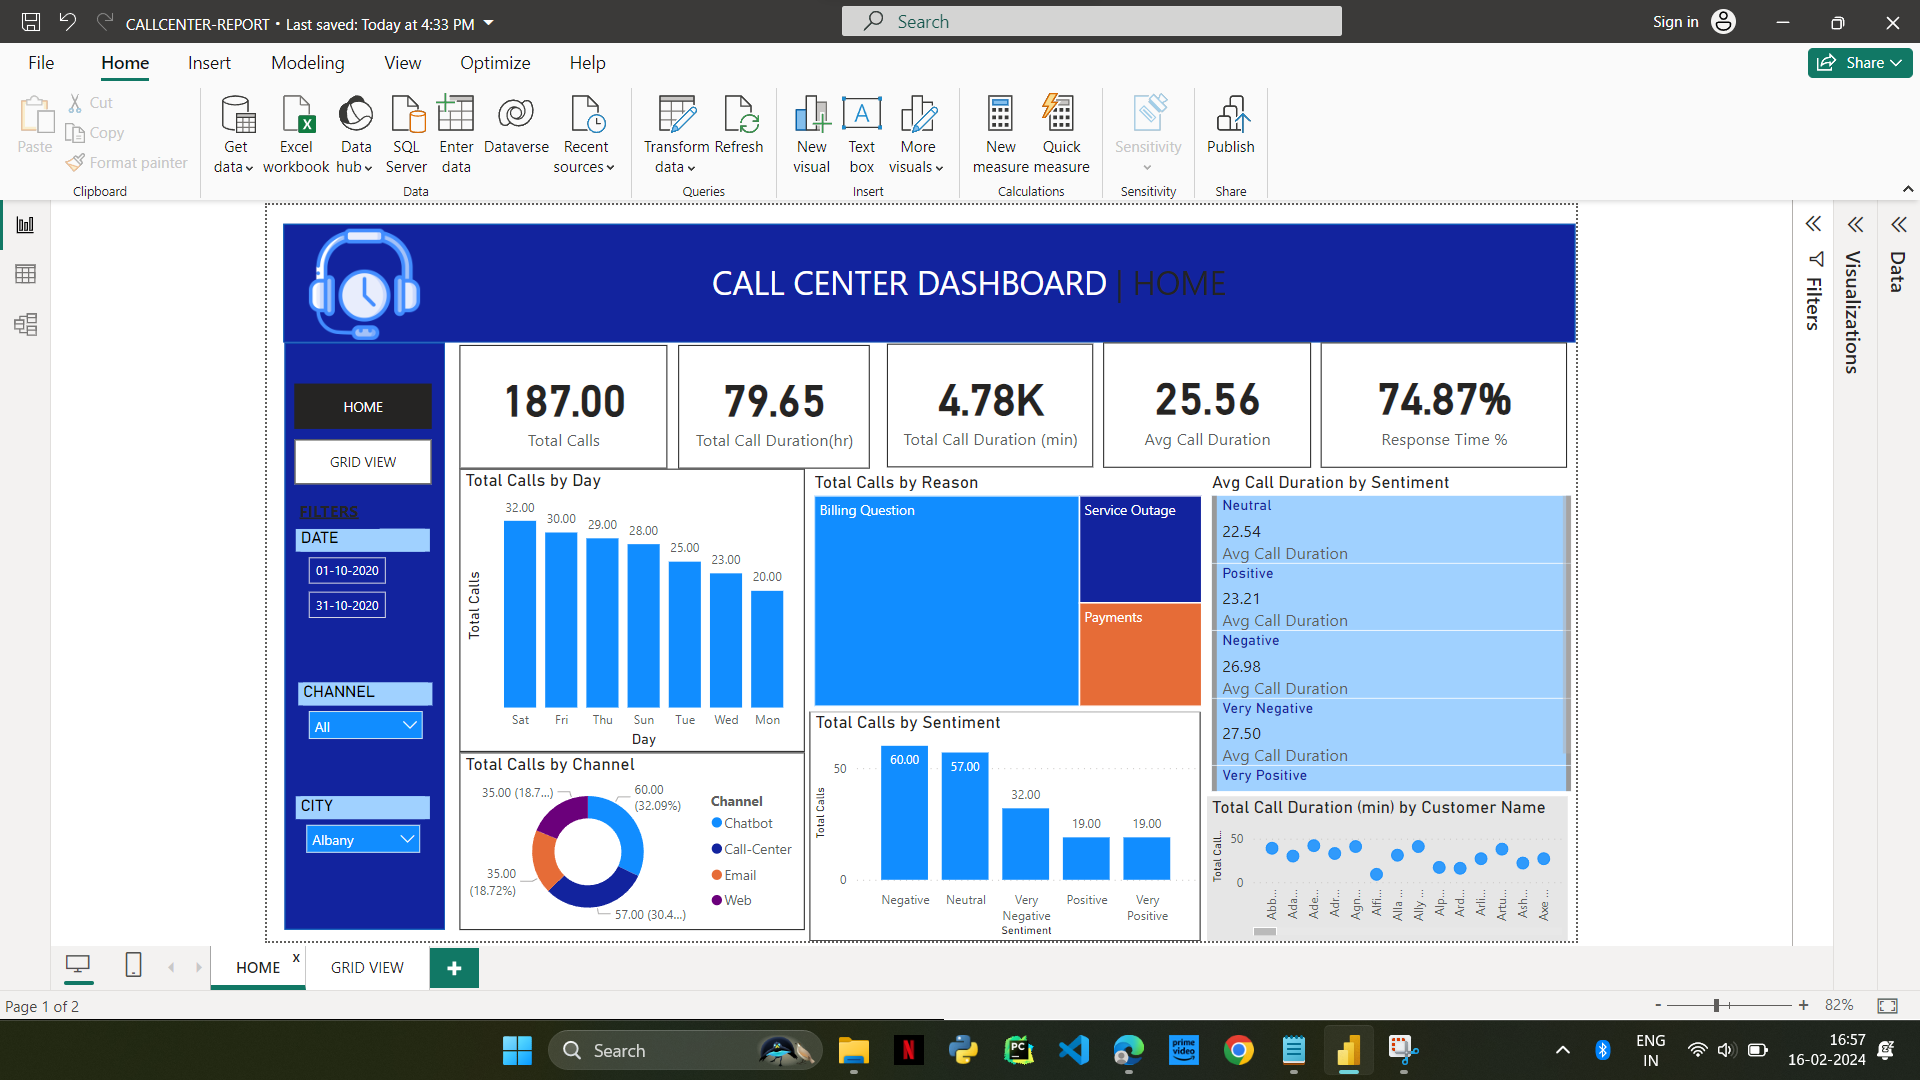

What the dashboard file says about the page in this screenshot:
{"tool":"powerbi","page":{"name":"HOME","canvas":[1280,720],"ordinal":0},"visuals":[{"type":"shape","box":[15.9,18.4,1263.7,116.3],"z":0},{"type":"shape","box":[17.1,134.3,157.1,574.3],"z":1000},{"type":"card","fields":{"Values":["Call Center_Call Center.Total Calls"]},"box":[188.3,136.9,202.9,121],"z":2000},{"type":"card","fields":{"Values":["Call Center_Call Center.Total Call Duration(hr)"]},"box":[402.2,136.9,187,121],"z":3000},{"type":"card","fields":{"Values":["Call Center_Call Center.Avg Call Duration"]},"box":[817.8,134.5,202.9,122.2],"z":4000},{"type":"card","fields":{"Values":["Call Center_Call Center.Response Time %"]},"box":[1030.5,134.5,240.8,122.2],"z":5000},{"type":"card","fields":{"Values":["Call Center_Call Center.Total Call Duration (min)"]},"box":[606.3,135.7,201.7,121],"z":6000},{"type":"textbox","box":[430.1,49.4,522.8,63],"z":7000},{"type":"columnChart","fields":{"Category":["Date Table.Day"],"Y":["Call Center_Call Center.Total Calls"]},"box":[188.6,258.4,338,276.7],"z":8000},{"type":"donutChart","fields":{"Category":["Call Center_Call Center.Channel"],"Y":["Call Center_Call Center.Total Calls"]},"box":[188.6,535.1,338,173.9],"z":9000},{"type":"columnChart","fields":{"Y":["Call Center_Call Center.Total Calls"],"Category":["Call Center_Call Center.Sentiment"]},"box":[919.5,258.3,333.7,276.8],"z":10000},{"type":"clusteredBarChart","fields":{"Category":["Call Center_Call Center.Call-Centres City"],"Y":["Call Center_Call Center.Total Calls"]},"box":[919.5,543.8,333.7,165.6],"z":11000},{"type":"filledMap","fields":{"Category":["Call Center_Call Center.State"]},"box":[526.5,495.6,378.2,224.9],"z":12000},{"type":"treemap","fields":{"Group":["Call Center_Call Center.Reason"],"Values":["Call Center_Call Center.Total Calls"]},"box":[526.5,258.3,378.2,237.3],"z":13000},{"type":"slicer","title":"DATE","fields":{"Values":["Date Table.Date"]},"box":[28.6,317.1,131.4,118.6],"z":14000},{"type":"slicer","title":"CHANNEL","fields":{"Values":["Call Center_Call Center.Channel"]},"box":[30,467.1,131.4,97.1],"z":15000},{"type":"slicer","title":"CITY","fields":{"Values":["Call Center_Call Center.City"]},"box":[28.6,578.6,131.4,97.1],"z":16000},{"type":"pageNavigator","box":[27.1,174.3,134.3,98.6],"z":17000},{"type":"textbox","box":[27.1,282.9,82.9,34.3],"z":18000},{"type":"image","box":[30,18.6,144.3,140],"z":19000}]}

Visuals, with their boxes on the page's 1280x720 design canvas (x1, y1, x2, y2). These are canvas units, not pixel positions in the 1920x1080 screenshot, which may show the page scaled, cropped or inside an application window:
shape: BBox(16, 18, 1280, 135)
shape: BBox(17, 134, 174, 709)
card - Call Center_Call Center.Total Calls: BBox(188, 137, 391, 258)
card - Call Center_Call Center.Total Call Duration(hr): BBox(402, 137, 589, 258)
card - Call Center_Call Center.Avg Call Duration: BBox(818, 134, 1021, 257)
card - Call Center_Call Center.Response Time %: BBox(1030, 134, 1271, 257)
card - Call Center_Call Center.Total Call Duration (min): BBox(606, 136, 808, 257)
textbox: BBox(430, 49, 953, 112)
columnChart - Date Table.Day x Call Center_Call Center.Total Calls: BBox(189, 258, 527, 535)
donutChart - Call Center_Call Center.Channel x Call Center_Call Center.Total Calls: BBox(189, 535, 527, 709)
columnChart - Call Center_Call Center.Total Calls x Call Center_Call Center.Sentiment: BBox(920, 258, 1253, 535)
clusteredBarChart - Call Center_Call Center.Call-Centres City x Call Center_Call Center.Total Calls: BBox(920, 544, 1253, 709)
filledMap - Call Center_Call Center.State: BBox(526, 496, 905, 720)
treemap - Call Center_Call Center.Reason x Call Center_Call Center.Total Calls: BBox(526, 258, 905, 496)
"DATE" slicer: BBox(29, 317, 160, 436)
"CHANNEL" slicer: BBox(30, 467, 161, 564)
"CITY" slicer: BBox(29, 579, 160, 676)
pageNavigator: BBox(27, 174, 161, 273)
textbox: BBox(27, 283, 110, 317)
image: BBox(30, 19, 174, 159)
